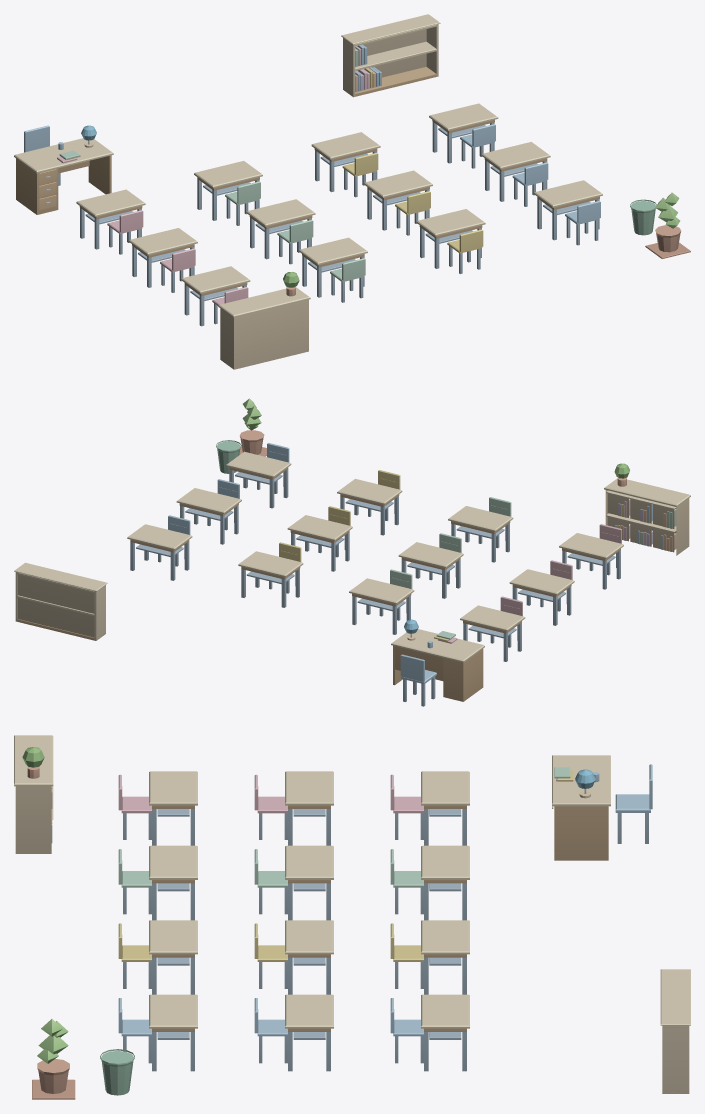
Rendered from k1_interior_props.glb.
3 renders of one model, top to bottom at view 1: azimuth 30°, elevation 25°; view 2: azimuth 150°, elevation 25°; view 3: azimuth 270°, elevation 25°, orthographic. The views are drawn at different scales.
Visible parts, largest first — view 1: almari_kelas, rak_buku_kecil, meja_guru, meja_murid_12, meja_murid_11, meja_murid_10, meja_murid_4, meja_murid_8, meja_murid_3, meja_murid_1, meja_murid_7, meja_murid_6 (+6 smaller); view 2: rak_buku_kecil, almari_kelas, meja_guru, meja_murid_4, meja_murid_3, meja_murid_2, meja_murid_12, meja_murid_1, meja_murid_6, meja_murid_5, meja_murid_10, meja_murid_7 (+6 smaller); view 3: meja_guru, almari_kelas, rak_buku_kecil, meja_murid_4, meja_murid_8, meja_murid_2, meja_murid_6, meja_murid_10, meja_murid_1, meja_murid_5, meja_murid_9, meja_murid_12 (+6 smaller).
Part boxes in pixels (left/top/right/bottom): almari_kelas: left=218, top=272, right=310, bottom=369; rak_buku_kecil: left=341, top=14, right=440, bottom=97; meja_guru: left=14, top=125, right=113, bottom=214; meja_murid_12: left=534, top=180, right=602, bottom=245; meja_murid_11: left=416, top=209, right=485, bottom=273; meja_murid_10: left=299, top=237, right=367, bottom=302; meja_murid_4: left=429, top=103, right=498, bottom=168; meja_murid_8: left=481, top=142, right=550, bottom=206; meja_murid_3: left=311, top=132, right=380, bottom=197; meja_murid_1: left=76, top=189, right=145, bottom=254; meja_murid_7: left=364, top=170, right=432, bottom=235; meja_murid_6: left=246, top=199, right=315, bottom=264; rak_buku_kecil: left=14, top=562, right=107, bottom=640; almari_kelas: left=604, top=463, right=690, bottom=555; meja_guru: left=391, top=619, right=484, bottom=701; meja_murid_4: left=127, top=515, right=192, bottom=580; meja_murid_3: left=238, top=542, right=303, bottom=607; meja_murid_2: left=349, top=569, right=414, bottom=634; meja_murid_12: left=226, top=443, right=291, bottom=508; meja_murid_1: left=460, top=596, right=525, bottom=661; meja_murid_6: left=398, top=533, right=463, bottom=598; meja_murid_5: left=509, top=560, right=574, bottom=625; meja_murid_10: left=448, top=497, right=513, bottom=562; meja_murid_7: left=287, top=506, right=352, bottom=571; meja_guru: left=552, top=755, right=610, bottom=860; almari_kelas: left=14, top=735, right=53, bottom=853; rak_buku_kecil: left=660, top=969, right=690, bottom=1093; meja_murid_4: left=390, top=994, right=469, bottom=1071; meja_murid_8: left=254, top=994, right=333, bottom=1071; meja_murid_2: left=390, top=845, right=469, bottom=920; meja_murid_6: left=254, top=845, right=333, bottom=920; meja_murid_10: left=118, top=845, right=197, bottom=920; meja_murid_1: left=390, top=771, right=469, bottom=845; meja_murid_5: left=254, top=771, right=333, bottom=845; meja_murid_9: left=118, top=771, right=197, bottom=845; meja_murid_12: left=118, top=994, right=197, bottom=1071.
Size of the model in its own units: 8.69 by 1.38 by 8.47.
